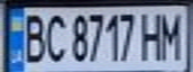1: (103, 10, 121, 62)
7: (84, 10, 106, 62), (118, 10, 139, 61)
8: (66, 10, 90, 63)
B: (18, 10, 48, 64)
C: (42, 10, 69, 63)
H: (139, 9, 166, 62)
M: (157, 8, 187, 61)
